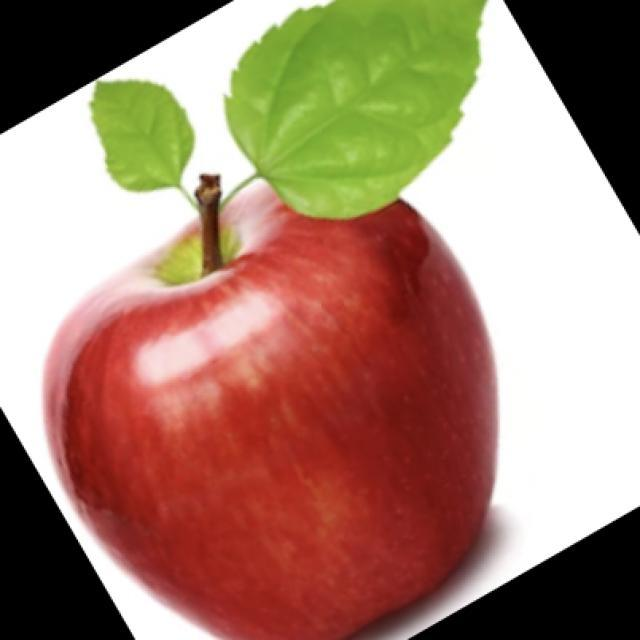Fresh Apple: (53, 193, 505, 640)
